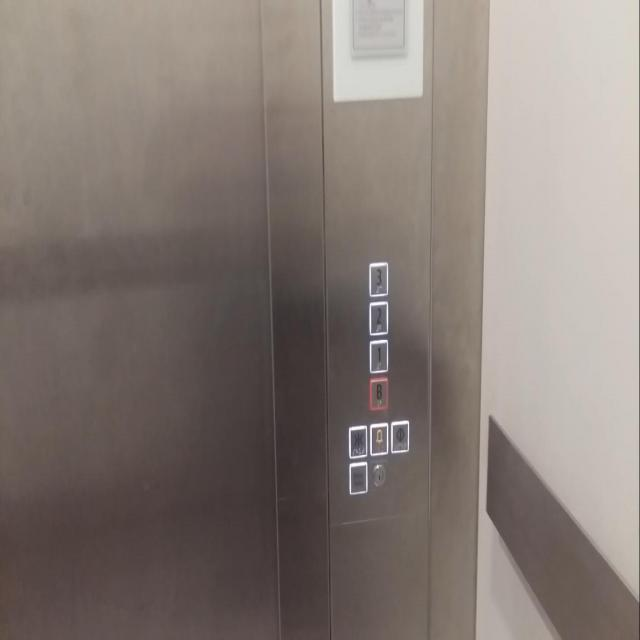1: (368, 338, 389, 372)
2: (368, 298, 389, 338)
3: (367, 260, 389, 298)
B: (368, 375, 389, 409)
alarm: (369, 418, 389, 458)
close: (348, 423, 368, 459)
keyhole: (372, 462, 386, 488)
open: (390, 418, 410, 454)
text_blur: (347, 458, 368, 495)
